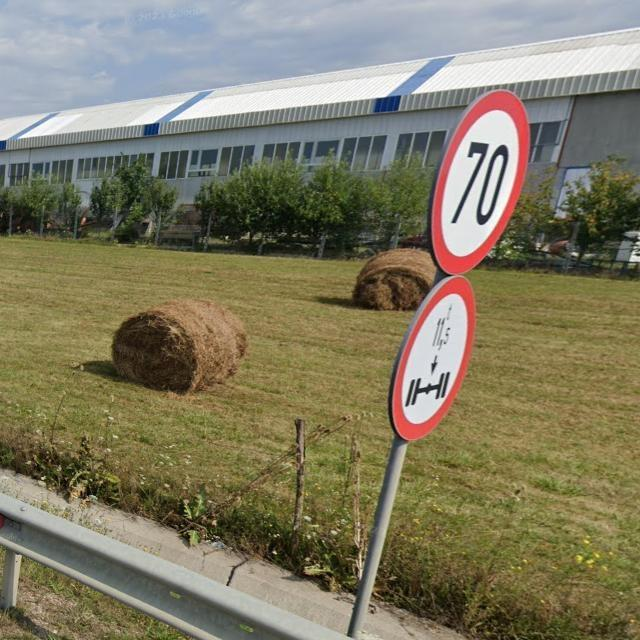forb_speed_over_70: (428, 88, 532, 275)
